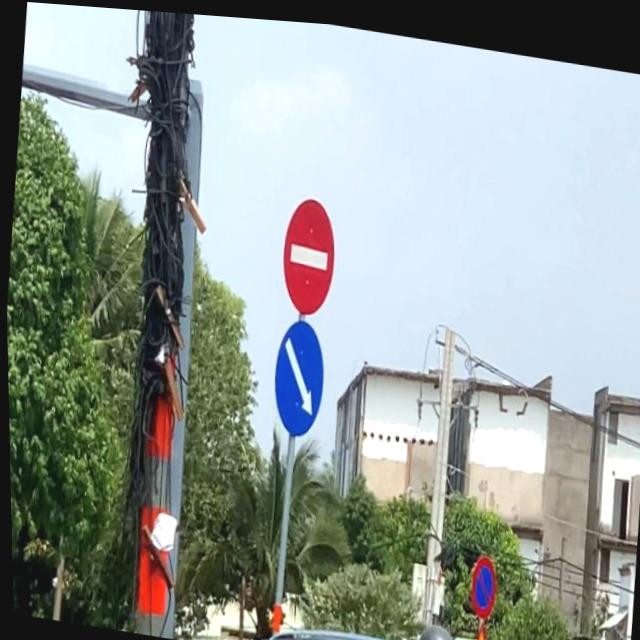Cam di nguoc chieu: (276, 188, 340, 315)
Cam do xe: (466, 546, 497, 612)
Vong chuong ngai vat sang phai: (266, 310, 328, 437)
cho ngoat nguy hiem vong ben phai: (462, 611, 492, 640)
